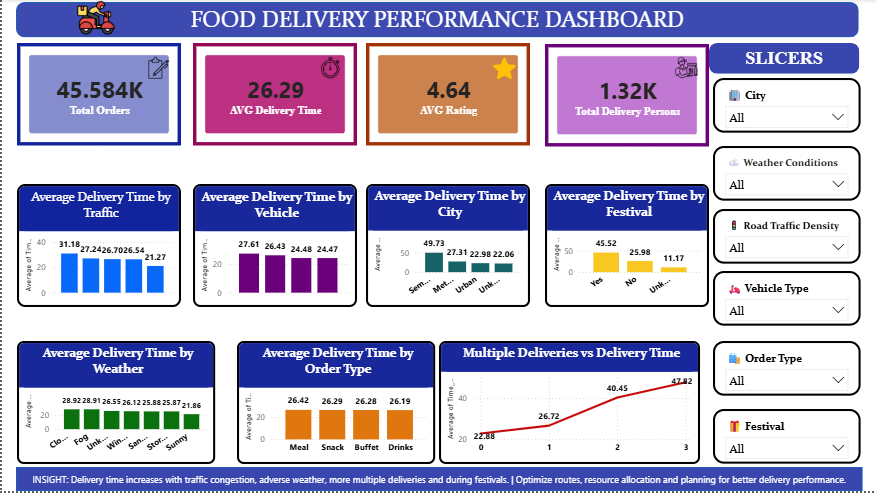

This screenshot's page, from the dashboard's own definition file:
{"tool":"powerbi","page":{"name":"Page 1","canvas":[1280,720],"ordinal":0},"visuals":[{"type":"columnChart","title":"Average Delivery Time by Traffic","fields":{"Category":["food_delivery_cleaned.Road_traffic_density"],"Y":["Avg(food_delivery_cleaned.Time_taken (min))"]},"box":[22.4,270.8,240,180],"z":0},{"type":"clusteredColumnChart","title":"Average Delivery Time by Weather","fields":{"Category":["food_delivery_cleaned.Weather_conditions"],"Y":["Avg(food_delivery_cleaned.Time_taken (min))"]},"box":[22.4,500.3,290,180],"z":1000},{"type":"clusteredColumnChart","title":"Average Delivery Time by Vehicle","fields":{"Category":["food_delivery_cleaned.Type_of_vehicle"],"Y":["Avg(food_delivery_cleaned.Time_taken (min))"]},"box":[279.5,270.8,240,180],"z":2000},{"type":"clusteredColumnChart","title":"Average Delivery Time by Order Type","fields":{"Category":["food_delivery_cleaned.Type_of_order"],"Y":["Avg(food_delivery_cleaned.Time_taken (min))"]},"box":[343.3,500.3,290,180],"z":3000},{"type":"clusteredColumnChart","title":"Average Delivery Time by City","fields":{"Category":["food_delivery_cleaned.City"],"Y":["Avg(food_delivery_cleaned.Time_taken (min))"]},"box":[533,270.8,240,180],"z":4000},{"type":"clusteredColumnChart","title":"Average Delivery Time by Festival","fields":{"Category":["food_delivery_cleaned.Festival"],"Y":["Avg(food_delivery_cleaned.Time_taken (min))"]},"box":[795.3,270.8,240,180],"z":5000},{"type":"lineChart","title":"Multiple Deliveries vs Delivery Time","fields":{"Category":["food_delivery_cleaned.multiple_deliveries"],"Y":["Avg(food_delivery_cleaned.Time_taken (min))"]},"box":[640,500.3,382,180],"z":6000},{"type":"slicer","fields":{"Values":["food_delivery_cleaned.City"]},"box":[1040.2,115.6,215.6,80],"z":7000},{"type":"slicer","fields":{"Values":["food_delivery_cleaned.Weather_conditions"]},"box":[1040.2,215.6,216,80],"z":8000},{"type":"slicer","fields":{"Values":["food_delivery_cleaned.Road_traffic_density"]},"box":[1040.2,307.1,216,80],"z":9000},{"type":"slicer","fields":{"Values":["food_delivery_cleaned.Type_of_vehicle"]},"box":[1040.2,398.5,216,80],"z":10000},{"type":"slicer","fields":{"Values":["food_delivery_cleaned.Type_of_order"]},"box":[1040.2,500.3,216,80],"z":11000},{"type":"slicer","fields":{"Values":["food_delivery_cleaned.Festival"]},"box":[1040.2,600.3,216,80],"z":12000},{"type":"cardVisual","fields":{"Data":["CountNonNull(food_delivery_cleaned.ID)"]},"box":[22.4,63.8,240,150],"z":13000},{"type":"cardVisual","fields":{"Data":["Avg(food_delivery_cleaned.Time_taken (min))"]},"box":[279.5,63.8,240,150],"z":14000},{"type":"cardVisual","fields":{"Data":["Avg(food_delivery_cleaned.Delivery_person_Ratings)"]},"box":[533,63.8,240,150],"z":15000},{"type":"image","box":[208.7,82.8,40,34],"z":16000},{"type":"image","box":[712.5,84.5,44.9,33],"z":17000},{"type":"cardVisual","fields":{"Data":["Count(food_delivery_cleaned.Delivery_person_ID)"]},"box":[795.3,65.6,240,150],"z":18000},{"type":"image","box":[979.8,82.8,42,34],"z":19000},{"type":"shape","box":[1035,63.8,220,45],"z":20000},{"type":"shape","box":[22.4,1.7,1233.4,51.8],"z":21000},{"type":"shape","box":[20.7,684.9,1238.6,35],"z":22000},{"type":"image","box":[79.4,0,117.3,55.2],"z":23000},{"type":"image","box":[439.9,82.8,79.4,34],"z":24000}]}

Visuals, with their boxes in screenshot pixels (x1, y1, x2, y2), scaled from the page's 1280x720 canvas onto the 876x496 screenshot:
"Average Delivery Time by Traffic" columnChart: <box>15,187,180,311</box>
"Average Delivery Time by Weather" clusteredColumnChart: <box>15,345,214,469</box>
"Average Delivery Time by Vehicle" clusteredColumnChart: <box>191,187,356,311</box>
"Average Delivery Time by Order Type" clusteredColumnChart: <box>235,345,433,469</box>
"Average Delivery Time by City" clusteredColumnChart: <box>365,187,529,311</box>
"Average Delivery Time by Festival" clusteredColumnChart: <box>544,187,709,311</box>
"Multiple Deliveries vs Delivery Time" lineChart: <box>438,345,699,469</box>
slicer - food_delivery_cleaned.City: <box>712,80,859,135</box>
slicer - food_delivery_cleaned.Weather_conditions: <box>712,149,860,204</box>
slicer - food_delivery_cleaned.Road_traffic_density: <box>712,212,860,267</box>
slicer - food_delivery_cleaned.Type_of_vehicle: <box>712,275,860,330</box>
slicer - food_delivery_cleaned.Type_of_order: <box>712,345,860,400</box>
slicer - food_delivery_cleaned.Festival: <box>712,414,860,469</box>
cardVisual - CountNonNull(food_delivery_cleaned.ID): <box>15,44,180,147</box>
cardVisual - Avg(food_delivery_cleaned.Time_taken (min)): <box>191,44,356,147</box>
cardVisual - Avg(food_delivery_cleaned.Delivery_person_Ratings): <box>365,44,529,147</box>
image: <box>143,57,170,80</box>
image: <box>488,58,518,81</box>
cardVisual - Count(food_delivery_cleaned.Delivery_person_ID): <box>544,45,709,149</box>
image: <box>671,57,699,80</box>
shape: <box>708,44,859,75</box>
shape: <box>15,1,859,37</box>
shape: <box>14,472,862,495</box>
image: <box>54,0,135,38</box>
image: <box>301,57,355,80</box>
